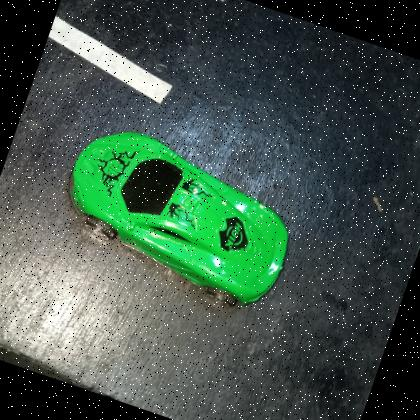Car: (69, 132, 288, 306)
